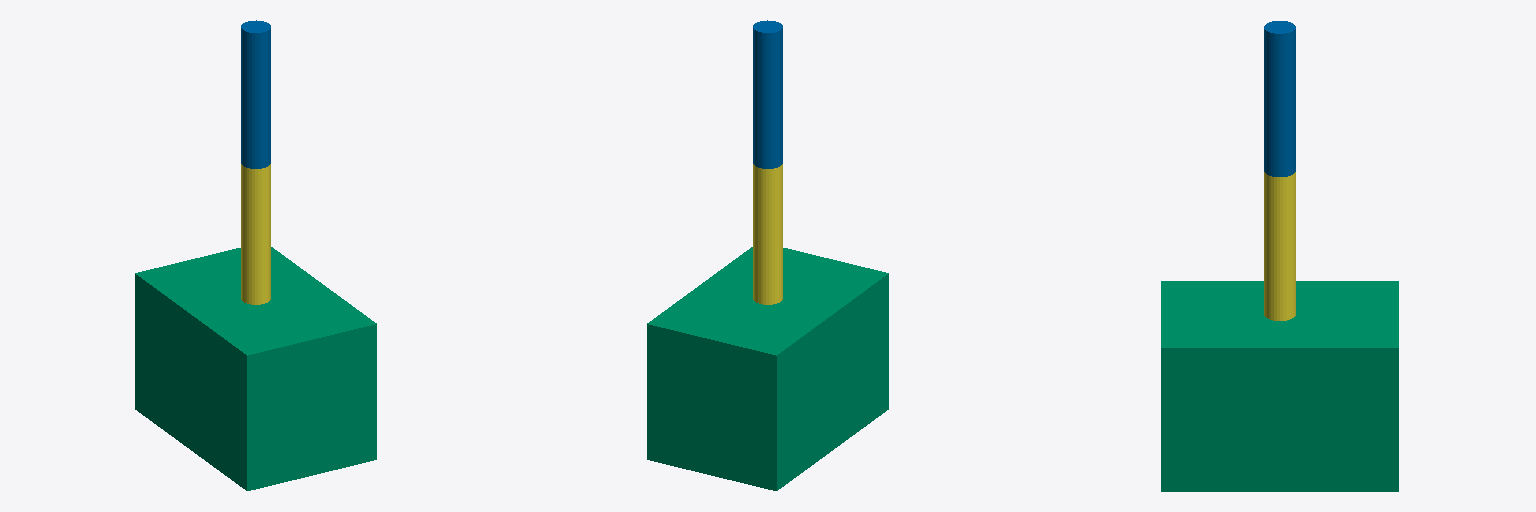
The robot description file, URDF, robot "LISM_Arm":
<?xml version="1.0" ?>
<robot name="LISM_Arm">
     <!--base of fixing arm-->
    <link name="world"/>

    <joint name="worldTobase" type="fixed">
        <parent link="world"/>
        <child link="base"/>
        <origin rpy="0 0 0" xyz="0.0 0.0 0.0"/>
    </joint>
    
    <link name="base">
        <!-- <visual>
            <origin rpy="0.0 0.0 0.0" xyz="0 0 0.01"/>
            <geometry>
                <box size = "0.2 0.3 0.02"/>
            </geometry>
        </visual> -->
    </link>

     <joint name="basetocar" type="prismatic">
        <axis xyz="0 1 0"/>
        <origin rpy="0 0 0" xyz="0.0 0.0 0.0"/>
        <parent link="base"/>
        <child link="car"/>
        <limit lower="-100" upper="100"/>
    </joint>

    <link name="car">
        <visual>
            <origin rpy="0.0 0.0 0.0" xyz="0 0 0.1"/>
            <geometry>
                <box size = "0.2 0.3 0.2"/>
            </geometry>
        </visual>
        <inertial>
            <mass value="0.5"/>
            <origin rpy="0.0 0.0 0.0" xyz="0 0 0.1"/>
            <inertia ixx="0.0104167" ixy="0" ixz="0.0" iyy="0.0104167" iyz="0" izz="0.000225"/>
        </inertial>
    </link>

    <joint name="carToLink" type="revolute">
        <axis xyz="-1 0 0"/>
        <origin rpy="0 0 0" xyz="0.0 0.0 0.2"/>
        <parent link="car"/>
        <child link="link1"/>
        <limit lower="-100" upper="100"/>
    </joint>

    <link name="link1">
        <visual>
            <origin rpy="0.0 0.0 0.0" xyz="0 0 0.1"/>
            <geometry>
                <cylinder length="0.2" radius="0.02"/>
            </geometry>
        </visual>
        <inertial>
            <mass value="0.3"/>
            <origin rpy="0.0 0.0 0.0" xyz="0 0 0.1"/>
            <inertia ixx="0.001" ixy="0" ixz="0.0" iyy="0.0104167" iyz="0" izz="0.000225"/>
        </inertial>
    </link>

    <joint name="l12l2" type="revolute">
        <axis xyz="-1 0 0"/>
        <origin rpy="0 0 0" xyz="0.0 0.0 0.2"/>
        <parent link="link1"/>
        <child link="link2"/>
        <limit lower="-100" upper="100"/>
    </joint>

    <link name="link2">
        <visual>
            <origin rpy="0.0 0.0 0.0" xyz="0 0 0.1"/>
            <geometry>
                <cylinder length="0.2" radius="0.02"/>
            </geometry>
        </visual>
        <inertial>
            <mass value="0.4"/>
            <origin rpy="0.0 0.0 0.0" xyz="0 0 0.1"/>
            <inertia ixx="0.0013" ixy="0" ixz="0.0" iyy="0.0015" iyz="0" izz="0.000225"/>
        </inertial>
    </link>

</robot>

--- What the picture shows (computed from the rendered views, not written in the file) ---
Views: 3 orthographic renders of the robot side by side, from view 1: azimuth 30°, elevation 25°; view 2: azimuth 150°, elevation 25°; view 3: azimuth 270°, elevation 25°.
Robot: LISM_Arm — 5 links, 4 joints (2 revolute, 1 prismatic, 1 fixed); root link world; default pose: every joint at zero.
Visible links, largest first — view 1: car, link2, link1; view 2: car, link2, link1; view 3: car, link2, link1.
Link boxes in pixels (bbox=[...]): car: bbox=[135, 247, 376, 490]; link2: bbox=[241, 20, 270, 168]; link1: bbox=[241, 164, 270, 304]; car: bbox=[647, 247, 888, 490]; link2: bbox=[753, 20, 782, 168]; link1: bbox=[753, 164, 782, 304]; car: bbox=[1161, 281, 1398, 491]; link2: bbox=[1264, 21, 1295, 176]; link1: bbox=[1264, 172, 1295, 320].
Size in the robot's own frame: 0.2 by 0.3 by 0.6 metres.
Geometry: primitives only (box / cylinder / sphere), no mesh files.
